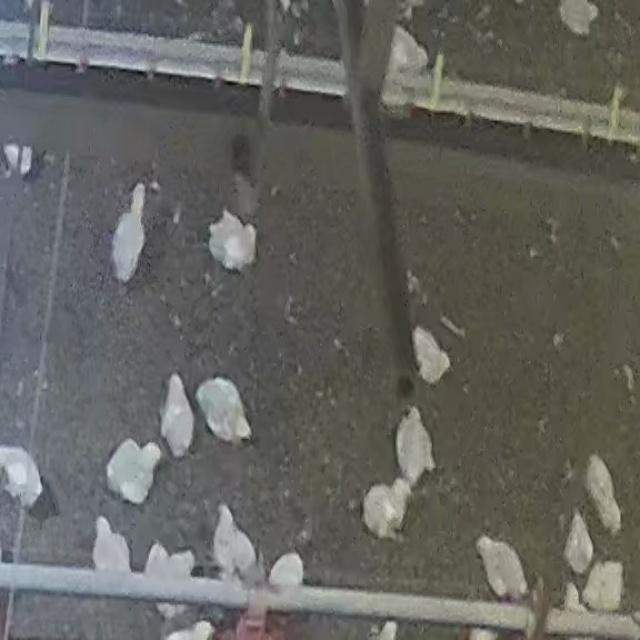chicken: (196, 376, 251, 445), (105, 438, 161, 504), (111, 179, 146, 283), (212, 503, 259, 580), (475, 534, 529, 600), (208, 210, 265, 272), (396, 406, 436, 487), (361, 478, 411, 539), (585, 452, 623, 532), (0, 446, 43, 506), (412, 326, 452, 386), (93, 515, 130, 573), (582, 558, 621, 610), (564, 510, 595, 574), (268, 553, 305, 589)
